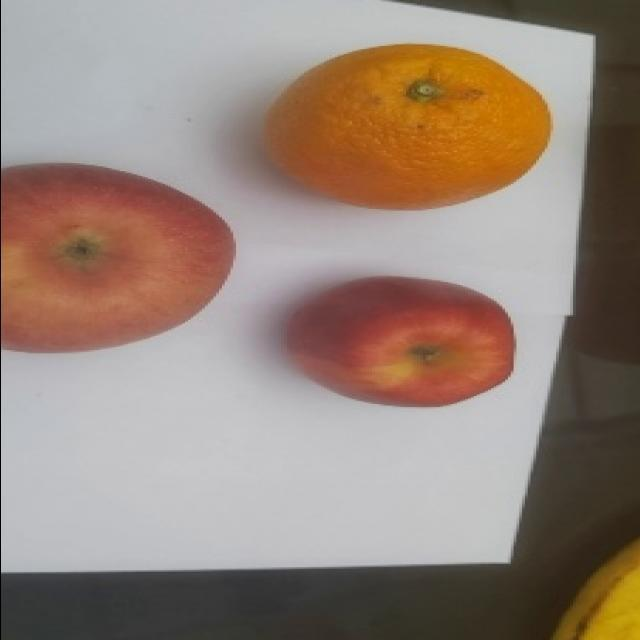Apple: (0, 156, 239, 354), (279, 270, 517, 414)
Banana: (558, 539, 640, 640)
Orange: (258, 40, 553, 216)
